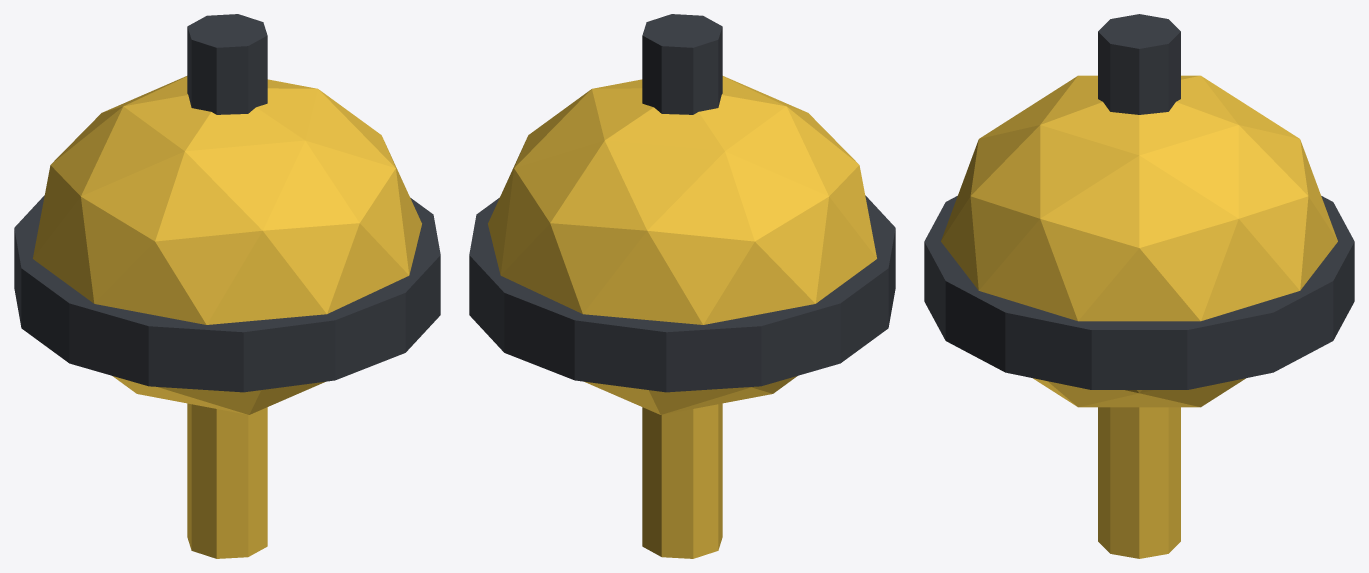
File: pomodoro_m2_1.glb
3 views of the same model, side by side, from view 1: azimuth 30°, elevation 25°; view 2: azimuth 150°, elevation 25°; view 3: azimuth 270°, elevation 25° (orthographic).
Visible parts, largest first — view 1: pomodoro_m2_1_mesh; view 2: pomodoro_m2_1_mesh; view 3: pomodoro_m2_1_mesh.
Boxes of the visible parts, x1,y1,x2,y2 form: pomodoro_m2_1_mesh: (14,14,440,558); pomodoro_m2_1_mesh: (469,14,895,558); pomodoro_m2_1_mesh: (924,14,1354,558).
Size of the model in its own units: 0.2535 by 0.34 by 0.26.
